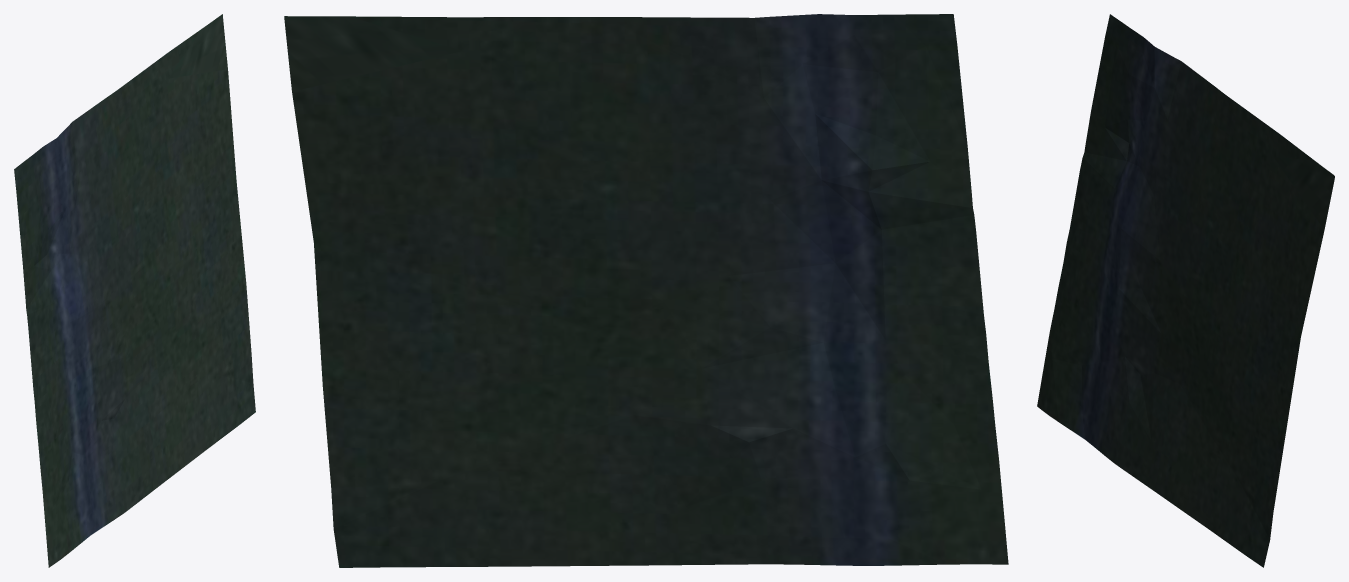
The model's file is tile_5_31_27_tex.obj.
3 views of the same model, side by side, from view 1: azimuth 30°, elevation 25°; view 2: azimuth 150°, elevation 25°; view 3: azimuth 270°, elevation 25° (orthographic). The views are drawn at different scales.
Parts seen in each view (by area): view 1: obj_0; view 2: obj_0; view 3: obj_0.
Boxes of the visible parts, box(x1,y1,x2,y2) form: obj_0: box(14, 14, 255, 567); obj_0: box(284, 14, 1008, 567); obj_0: box(1037, 14, 1334, 567).
Size of the model in its own units: 4.99 by 5.64 by 3.88.
Materials: 1 (1 with a texture image).
